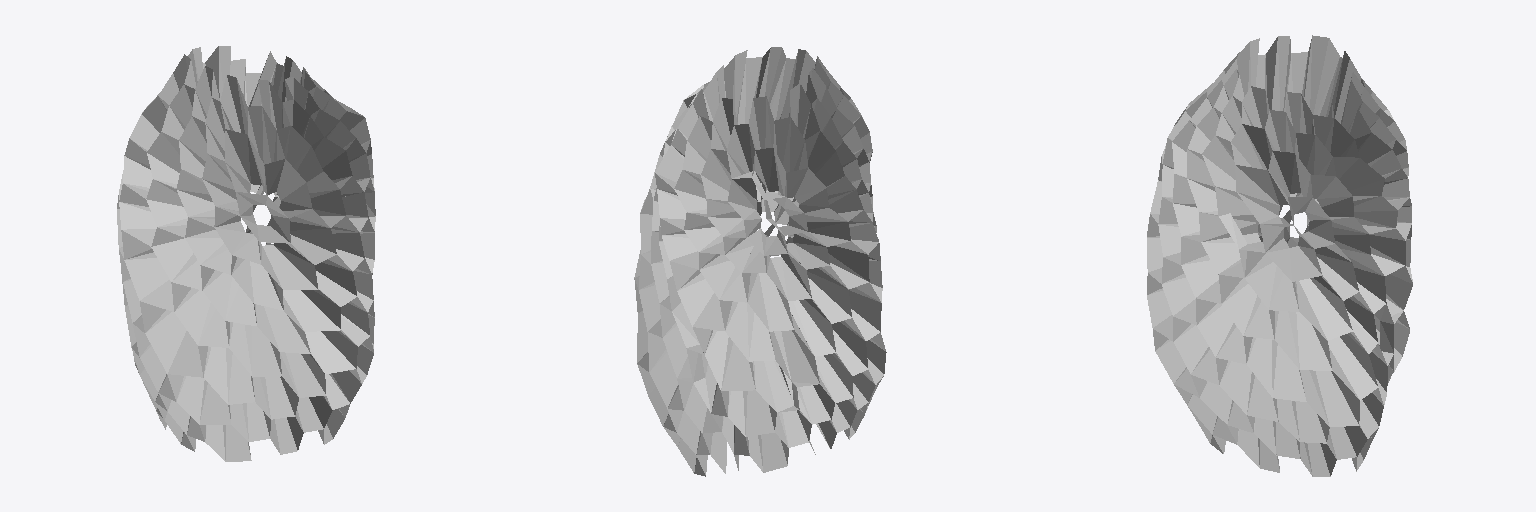
Rendered from Hive_Triangulated3.obj.
3 views of the same model, side by side, from view 1: azimuth 30°, elevation 25°; view 2: azimuth 150°, elevation 25°; view 3: azimuth 270°, elevation 25° (orthographic).
Visible parts, largest first — view 1: polySurface16; view 2: polySurface16; view 3: polySurface16.
Part boxes in pixels (left/top/right/bottom): polySurface16: left=117, top=46, right=375, bottom=461; polySurface16: left=634, top=47, right=886, bottom=476; polySurface16: left=1147, top=35, right=1412, bottom=476.
Size of the model in its own units: 60.77 by 98.02 by 59.75.